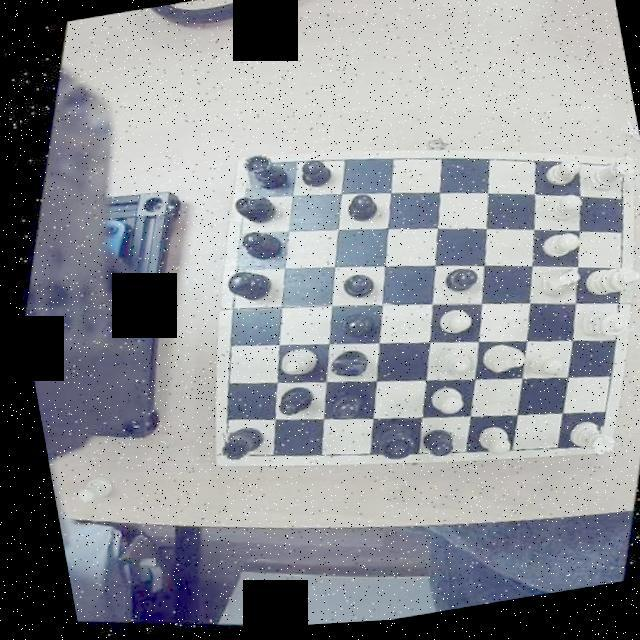chess-table-corners: (202, 428, 248, 471), (228, 153, 274, 195), (565, 428, 606, 466), (595, 162, 632, 194)
